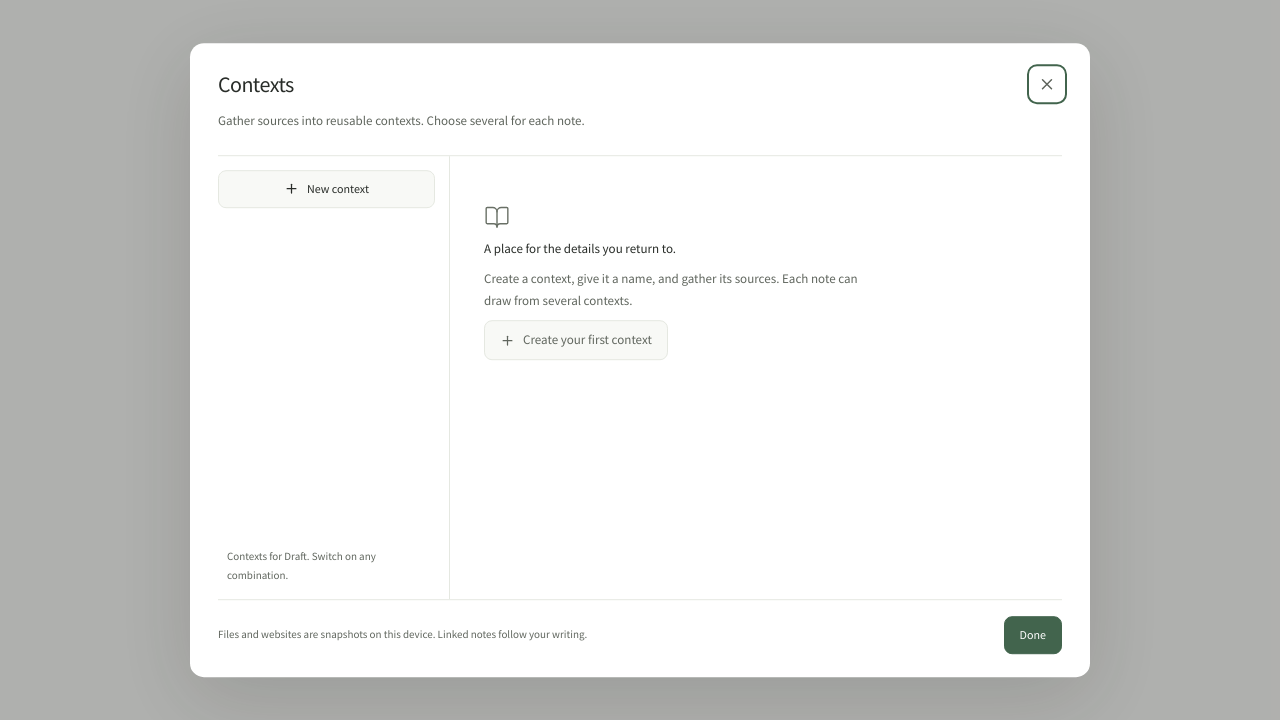
Test: named context packages › reports creation failure without losing the requested name
The image size is (1280, 720).
Click the button "Create your first context".
click(576, 340)  # box [484, 320, 668, 360]
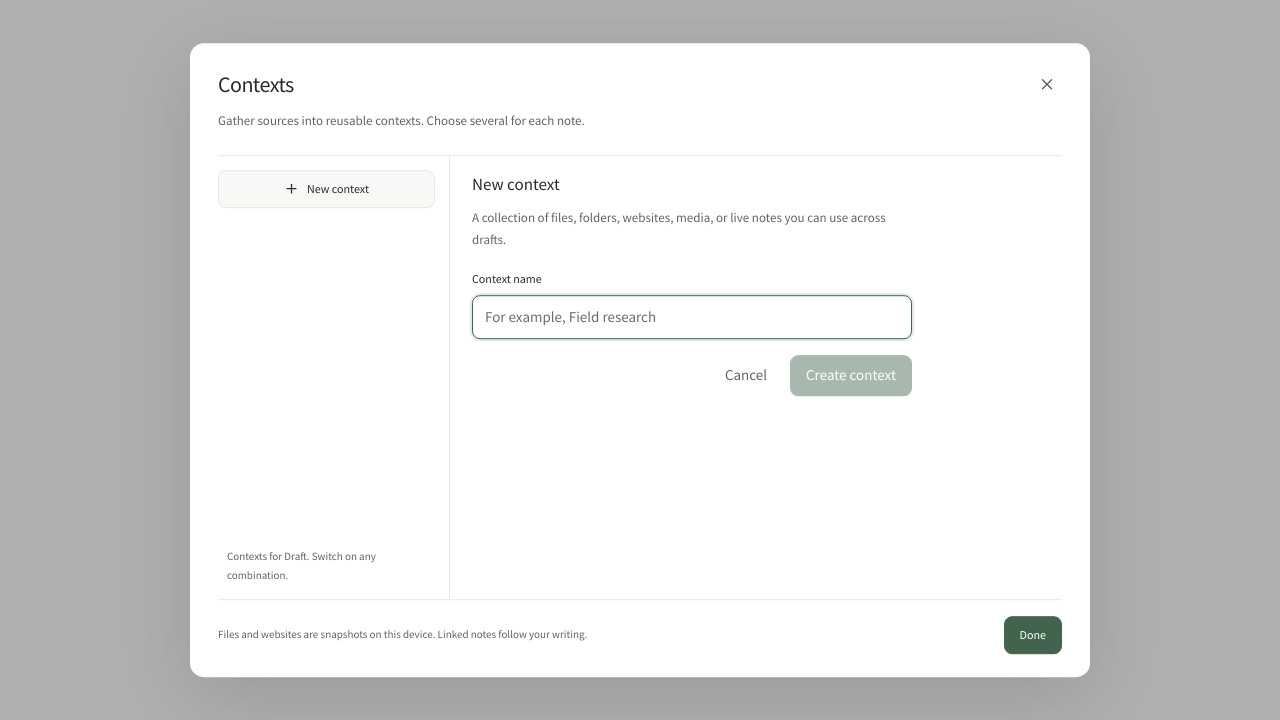
Type "Keep this name" into the field labelled "Context name".
click(692, 317); type("Keep this name")  # box [472, 295, 912, 339]
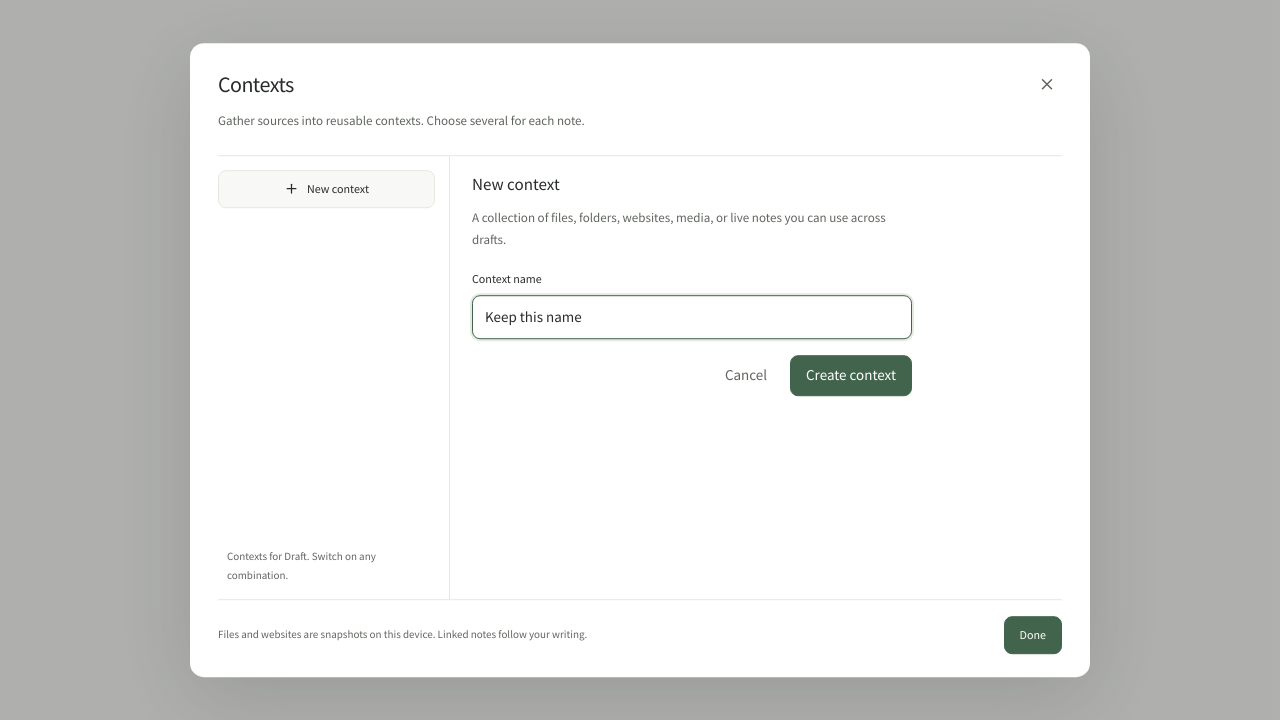
Click the button "Create context".
click(851, 376)  # box [790, 355, 912, 396]
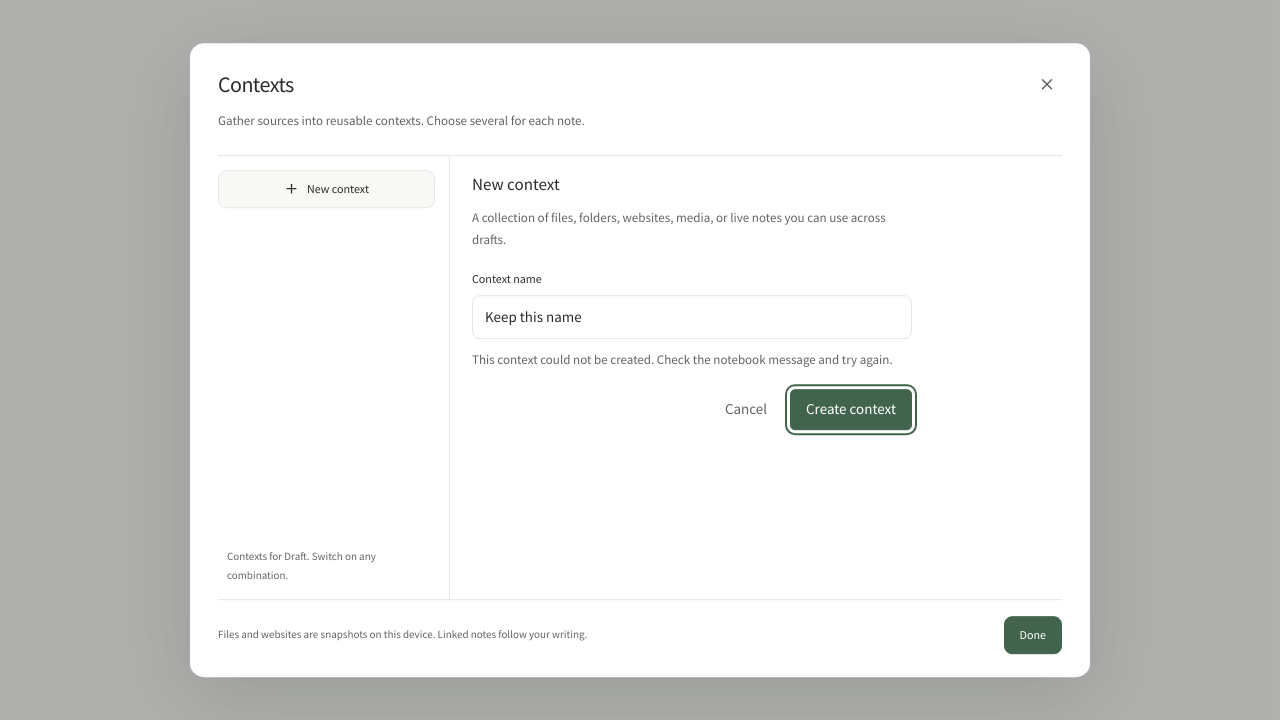
Check: the message shows "could not be created", box [472, 351, 893, 368]
